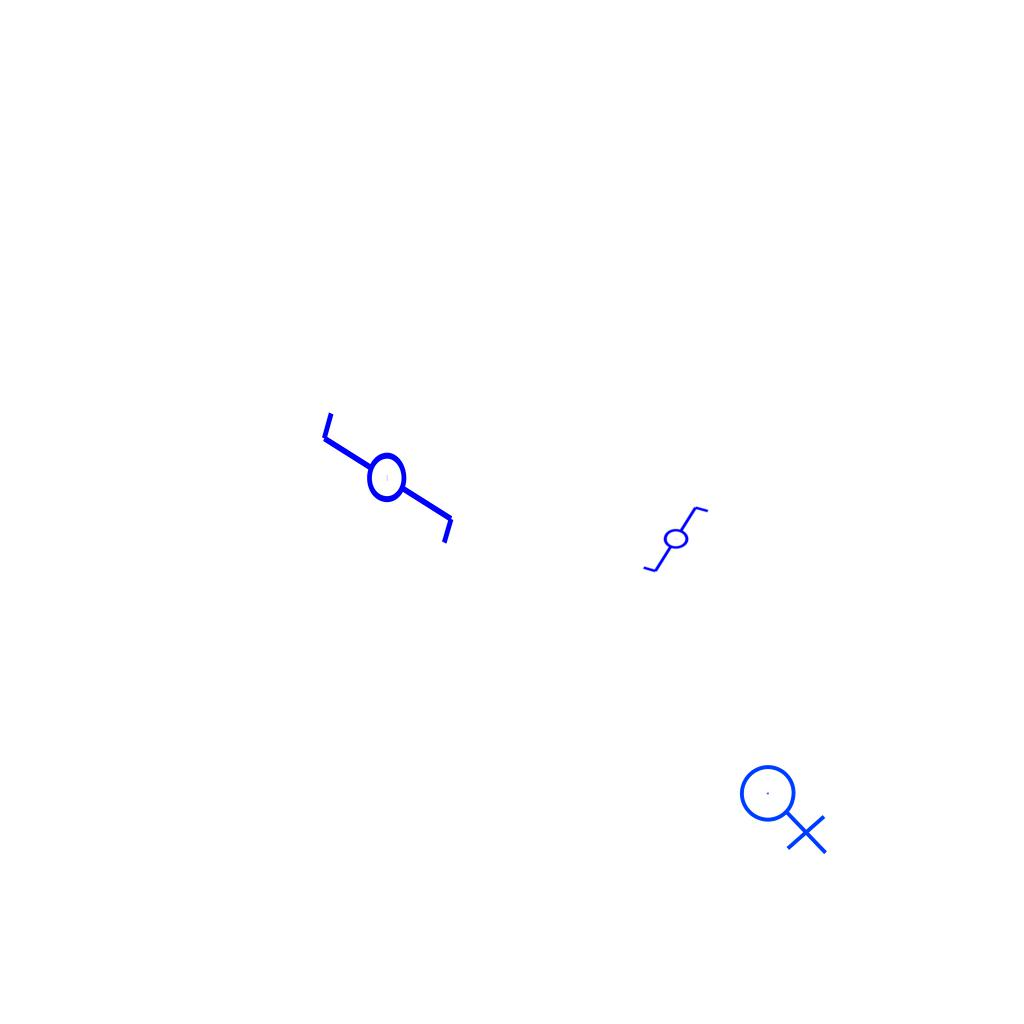Elektroanschluss_allgemein_230V_Geraeteanschlussdose_230V: (738, 756, 832, 855)
Wechselschalter: (317, 391, 461, 548), (641, 504, 719, 576)
